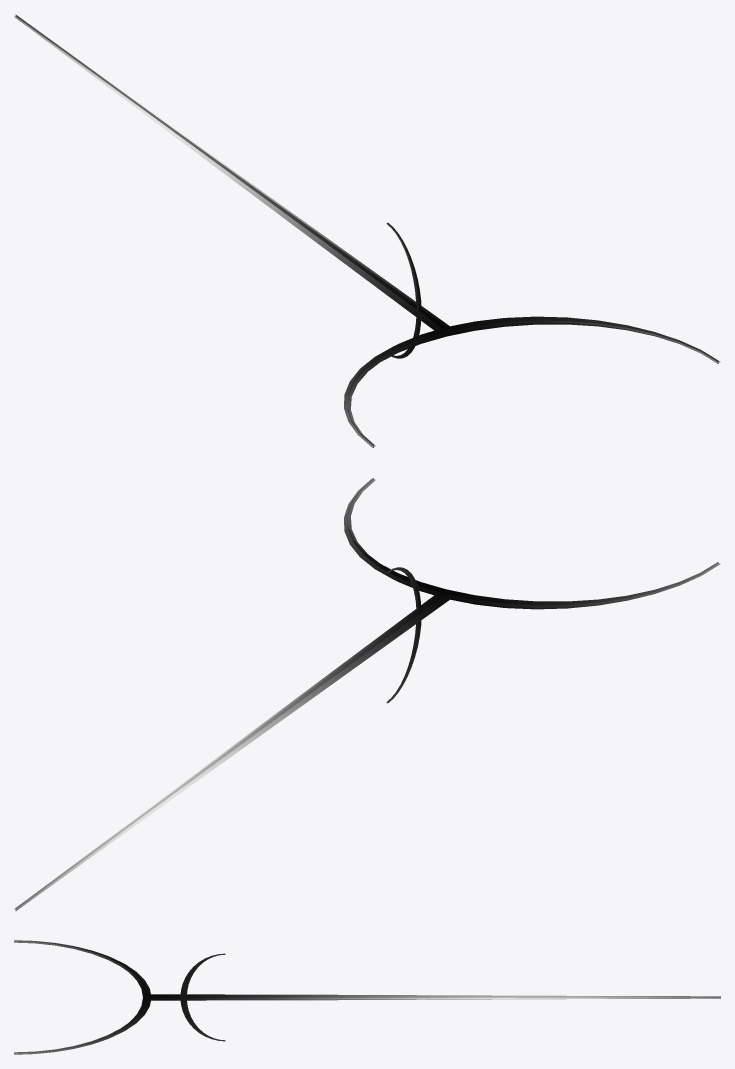
The model's file is JumpGuide.fbx.
The picture shows the model from 3 angles, top to bottom: view 1: azimuth 30°, elevation 25°; view 2: azimuth 150°, elevation 25°; view 3: azimuth 270°, elevation 25°; orthographic projection. The views are drawn at different scales.
Parts seen in each view (by area): view 1: SM_PRP_Eff_NinjaJumpGuid.mo; view 2: SM_PRP_Eff_NinjaJumpGuid.mo; view 3: SM_PRP_Eff_NinjaJumpGuid.mo.
Part boxes in pixels (bbox=[...]): SM_PRP_Eff_NinjaJumpGuid.mo: bbox=[14, 14, 720, 447]; SM_PRP_Eff_NinjaJumpGuid.mo: bbox=[14, 478, 720, 911]; SM_PRP_Eff_NinjaJumpGuid.mo: bbox=[14, 940, 720, 1054].
Size of the model in its own units: 190 by 68.53 by 500.
Materials: 1 (1 with a texture image).
